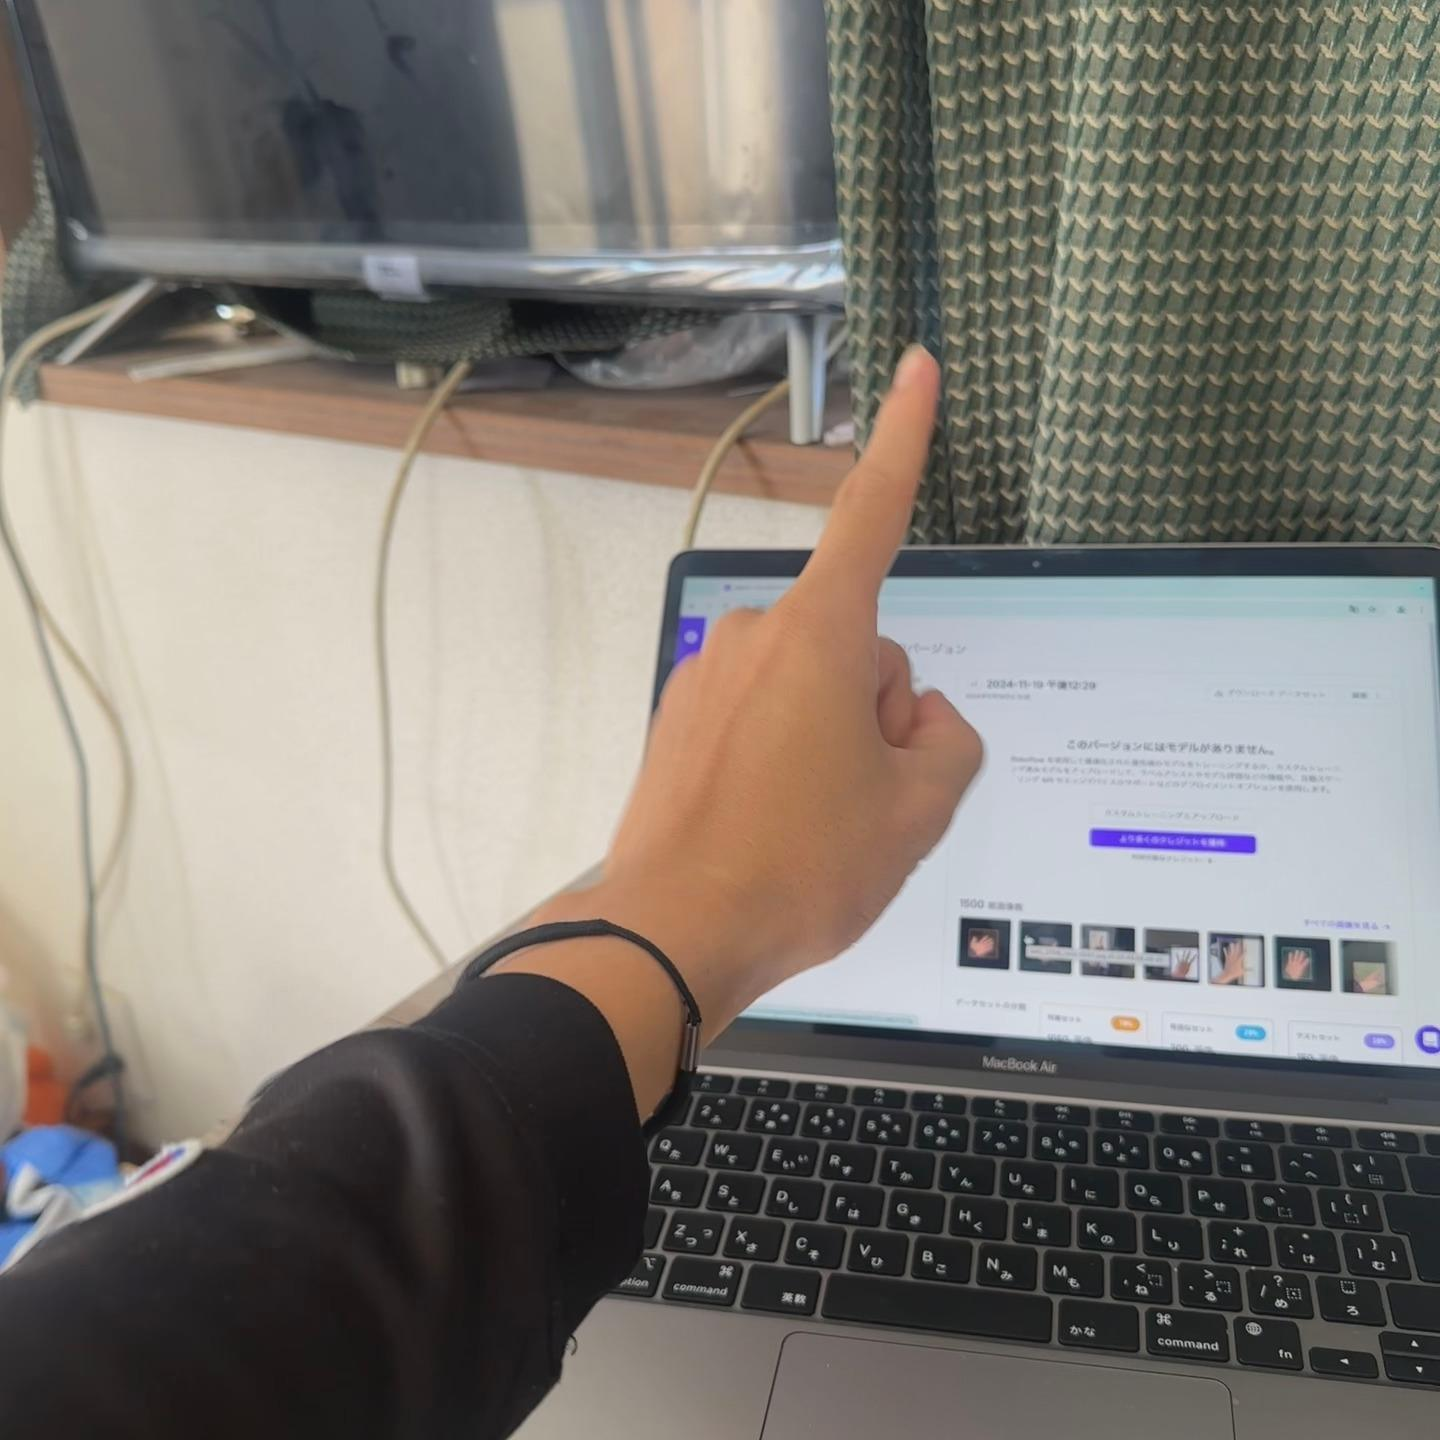without_gloves: (585, 328, 1364, 1020)
